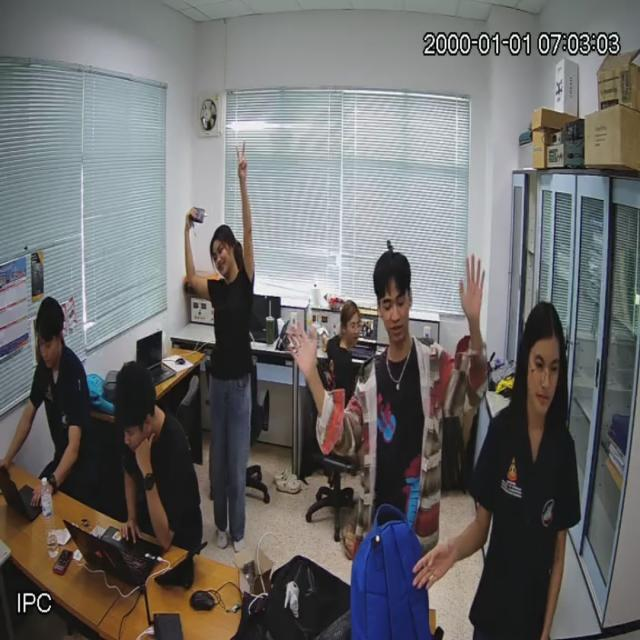normal: (464, 300, 563, 640), (350, 250, 448, 546), (200, 225, 257, 557), (2, 298, 92, 507), (114, 363, 202, 551)
